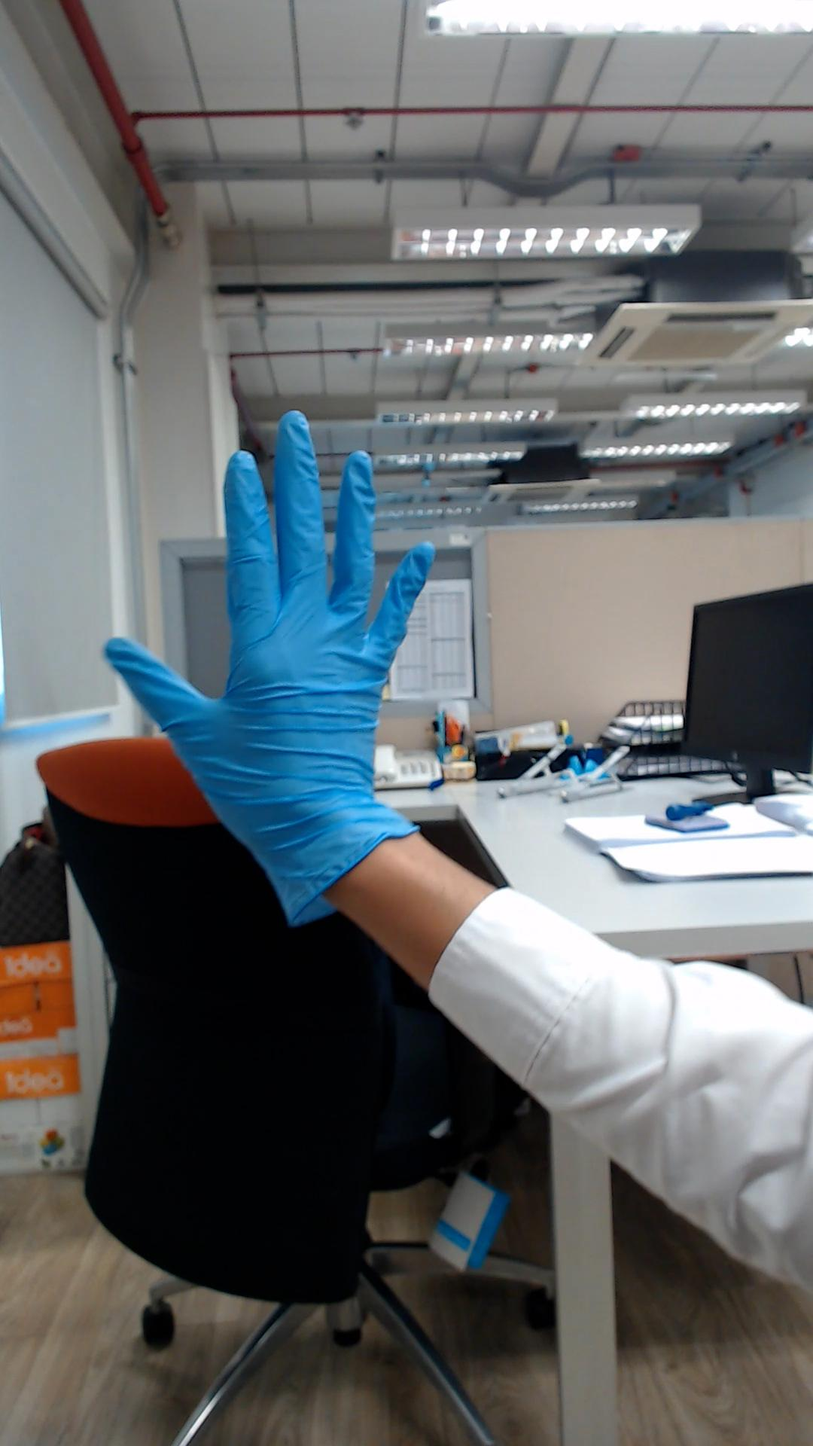gloves: (76, 395, 472, 802)
